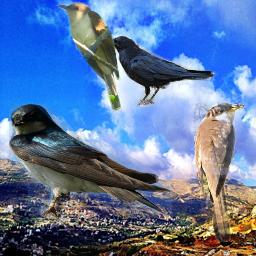Crow: (100, 35, 215, 108)
Cuckoo: (54, 1, 123, 115), (194, 103, 244, 242)
Swallow: (9, 104, 172, 223)
